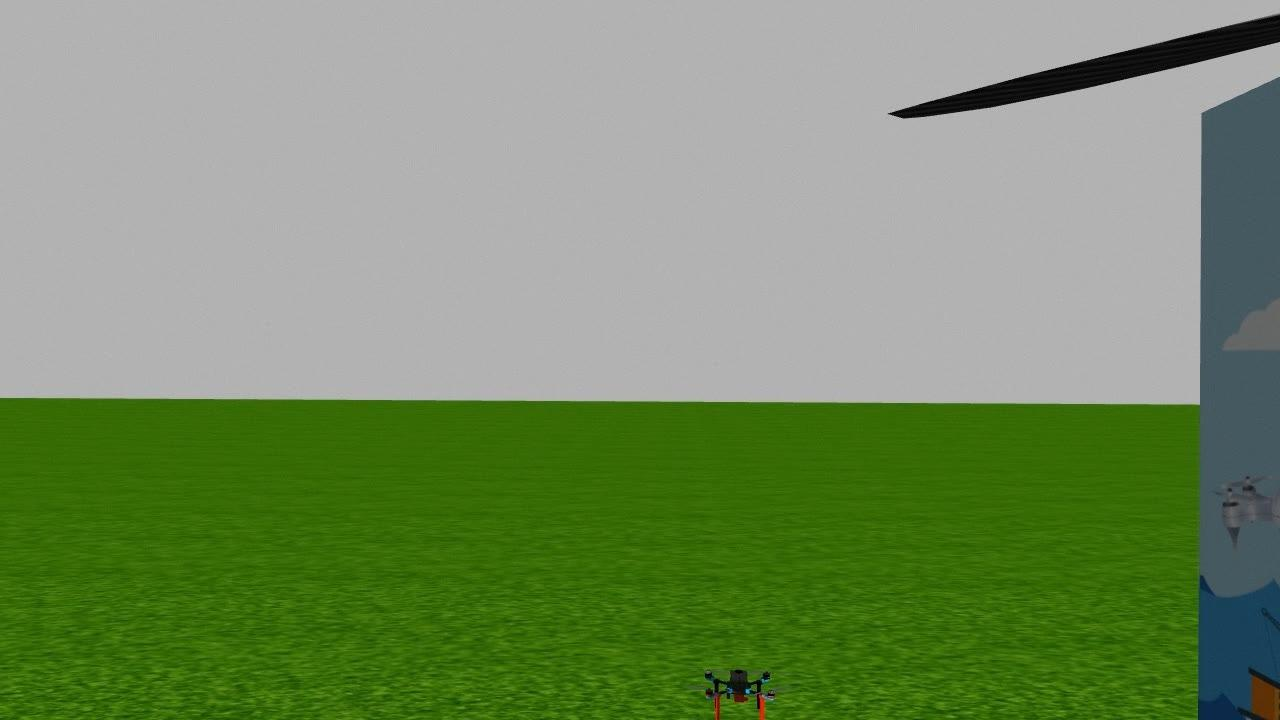UAV: (687, 651, 793, 720)
